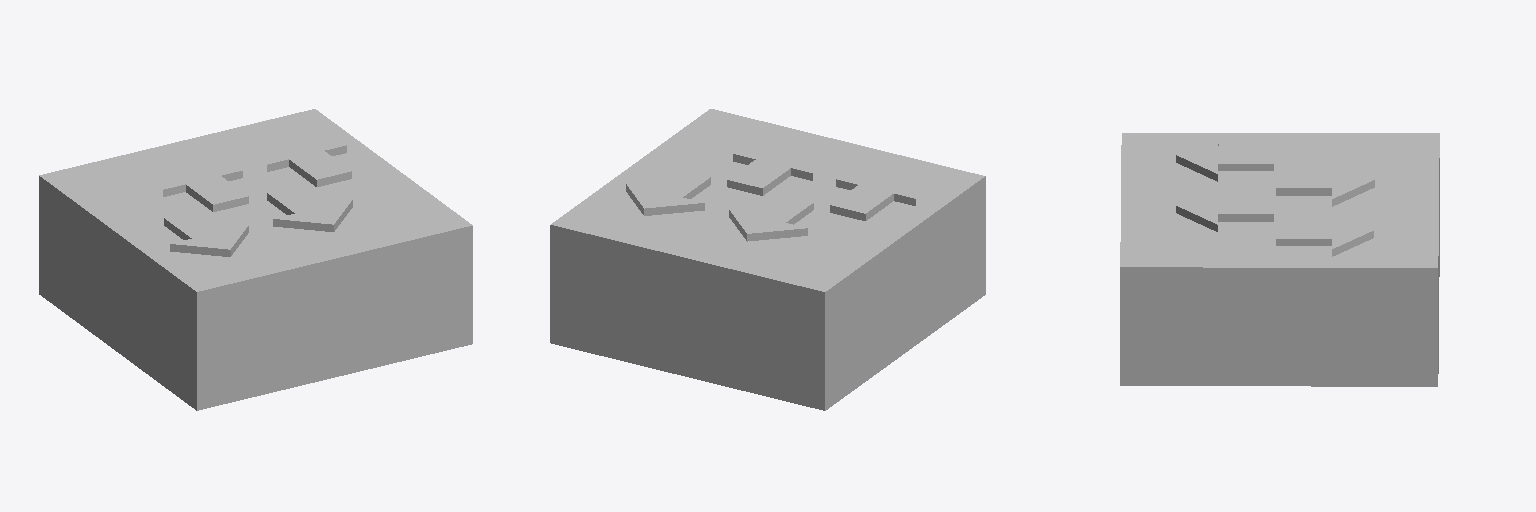
Rendered from d-jiaohuanji.obj.
3 renders of one model, left to right at view 1: azimuth 30°, elevation 25°; view 2: azimuth 150°, elevation 25°; view 3: azimuth 270°, elevation 25°, orthographic.
Visible parts, largest first — view 1: guanjun-jianhuanji; view 2: guanjun-jianhuanji; view 3: guanjun-jianhuanji.
Boxes of the visible parts, x1=… form: guanjun-jianhuanji: x1=39, y1=109, x2=472, y2=410; guanjun-jianhuanji: x1=550, y1=109, x2=985, y2=410; guanjun-jianhuanji: x1=1120, y1=133, x2=1439, y2=386.
Size of the model in its own units: 57.95 by 25.3 by 57.95.